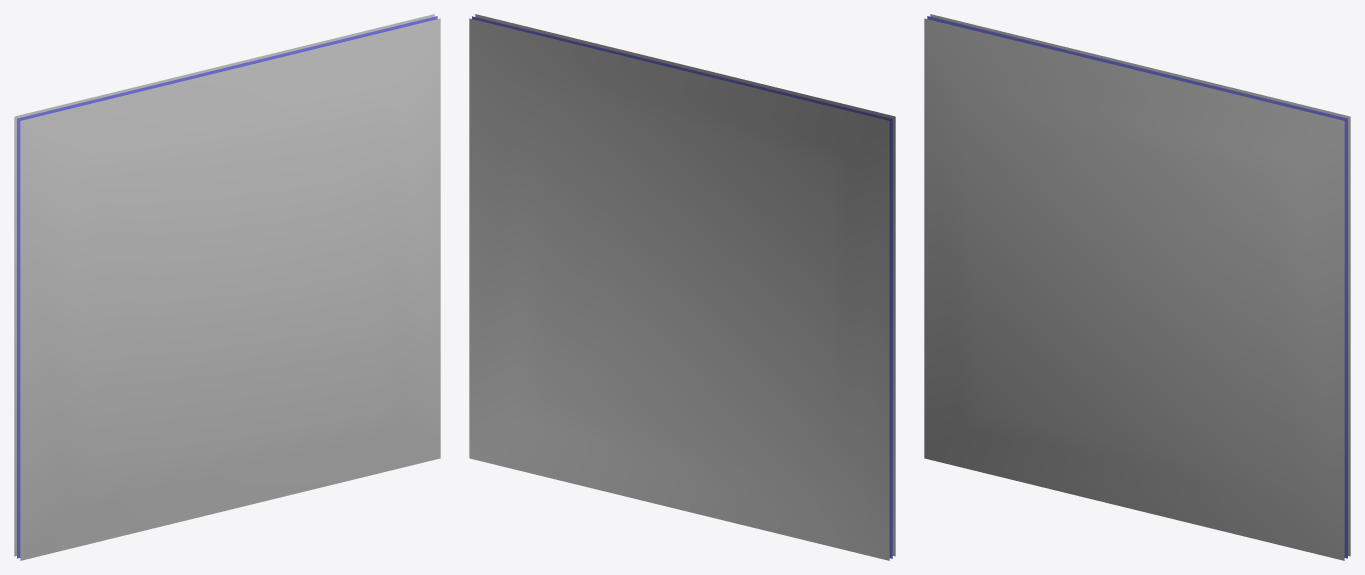
Rendered from p_mesh_enviroment_lava_lavasplash01.fbx.
3 renders of one model, left to right at view 1: azimuth 30°, elevation 25°; view 2: azimuth 150°, elevation 25°; view 3: azimuth 330°, elevation 25°, orthographic.
Parts seen in each view (by area): view 1: lavasplash01; view 2: lavasplash01; view 3: lavasplash01.
Boxes of the visible parts, x1,y1,x2,y2 form: lavasplash01: [14, 14, 440, 560]; lavasplash01: [469, 14, 895, 560]; lavasplash01: [924, 14, 1350, 560].
Size of the model in its own units: 2 by 2 by 0.1756.
